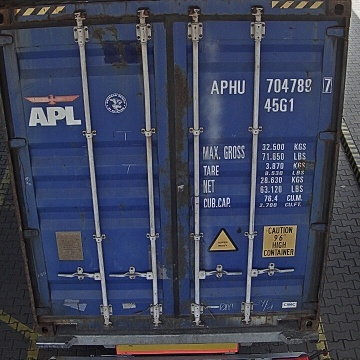serial_id: (210, 77, 332, 93)
